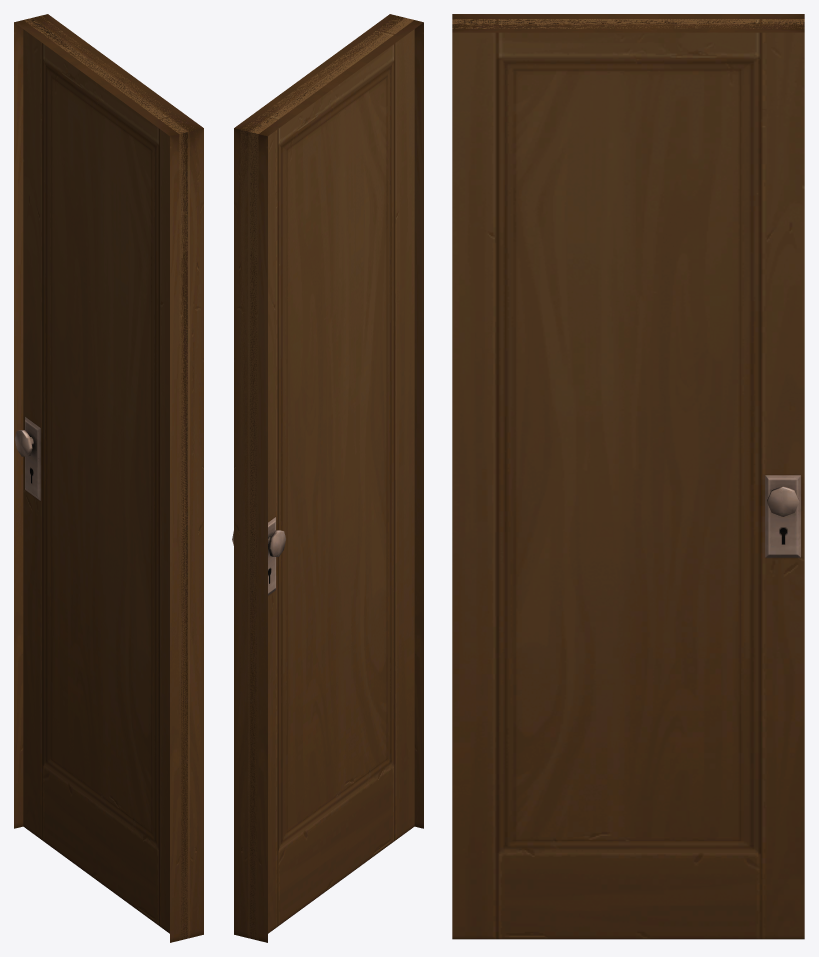
The model's file is puertaMarco.fbx.
3 renders of one model, left to right at view 1: azimuth 30°, elevation 25°; view 2: azimuth 150°, elevation 25°; view 3: azimuth 270°, elevation 25°, orthographic. The views are drawn at different scales.
Parts seen in each view (by area): view 1: puerta; view 2: puerta; view 3: puerta.
Part boxes in pixels (x1,y1,x2,y2): puerta: (14, 14, 203, 942); puerta: (232, 14, 423, 942); puerta: (452, 14, 804, 939).
Size of the model in its own units: 21.06 by 374 by 131.
Materials: 5 (5 with a texture image).
